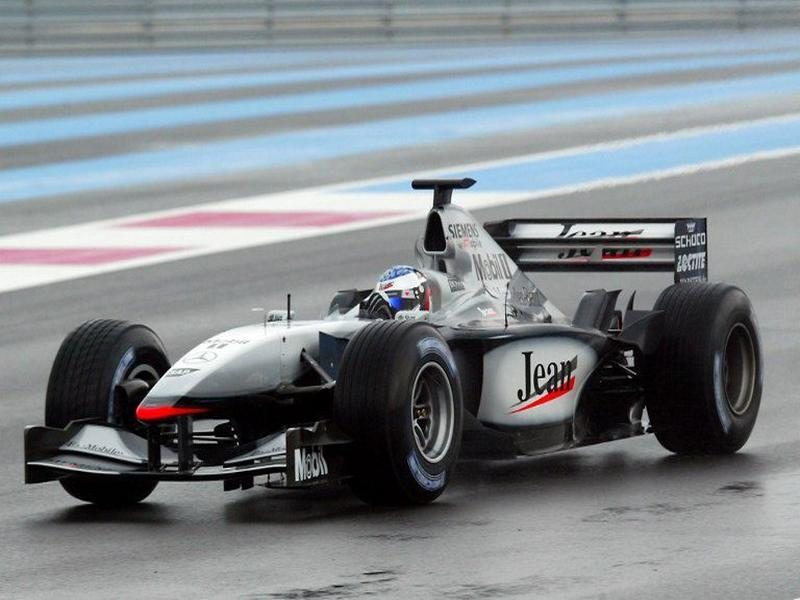f1: (49, 127, 778, 527)
